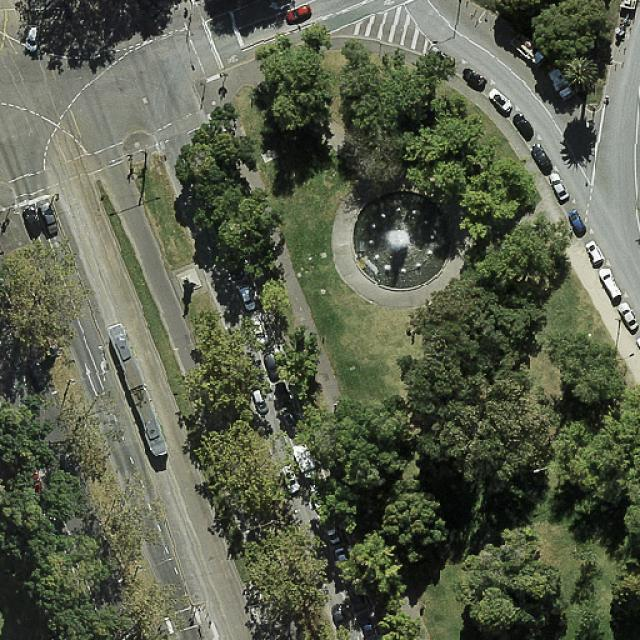Bike-Symbols: (227, 54, 238, 64), (382, 0, 394, 6)
